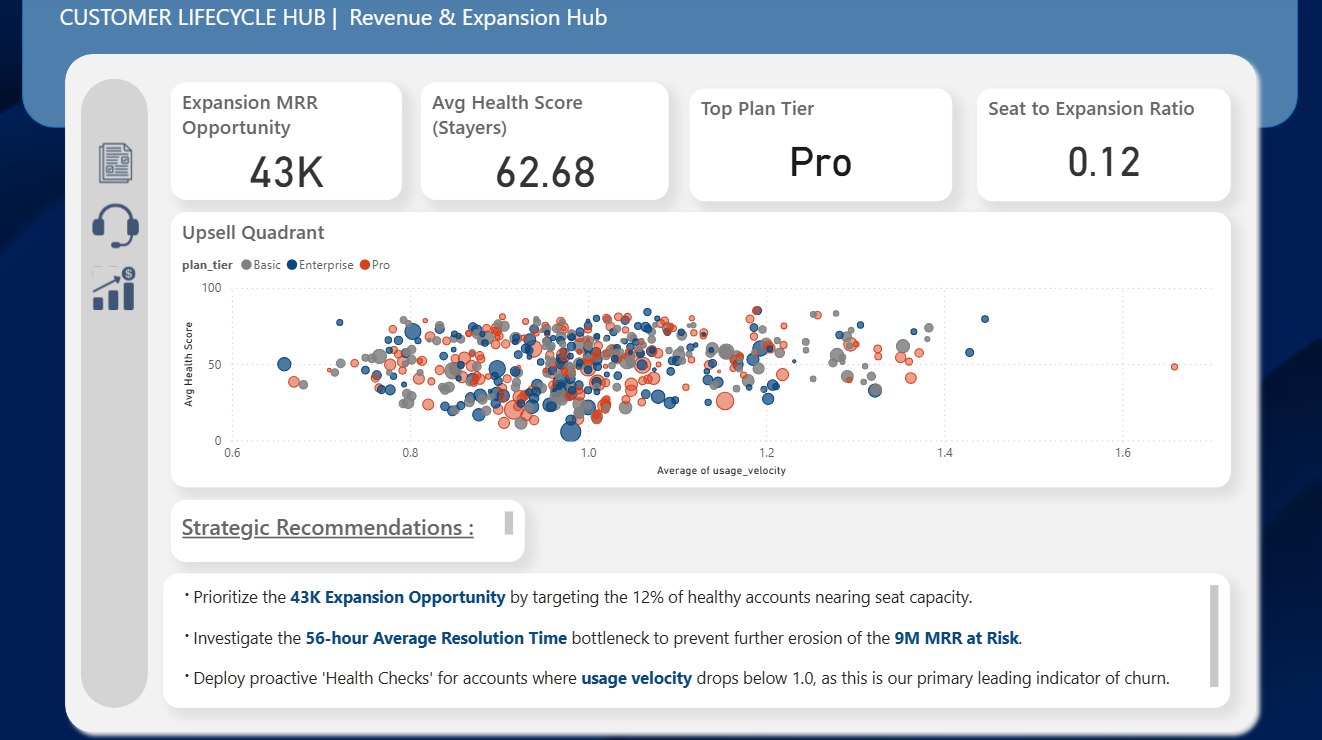

The dashboard page shown, as its layout file describes it:
{"tool":"powerbi","page":{"name":"Revenue & Expansion","canvas":[1280,720],"ordinal":2},"visuals":[{"type":"shape","box":[23.7,0,1231.6,127.3],"z":0},{"type":"shape","box":[56.2,47.4,1168,672.6],"z":1000},{"type":"actionButton","box":[81.1,79.9,64.9,607.7],"z":2000},{"type":"actionButton","box":[88.6,128.5,49.9,64.9],"z":3000},{"type":"actionButton","box":[88.6,193.4,51.2,57.4],"z":4000},{"type":"actionButton","box":[88.6,255.8,49.9,53.7],"z":5000},{"type":"textbox","box":[55,0,816.9,48.9],"z":6000},{"type":"card","title":"Expansion MRR Opportunity","fields":{"Values":["Measures_Table.Expansion_MRR_Opportunity"]},"box":[167.2,83.6,223.4,113.6],"z":7000},{"type":"card","title":"Avg Health Score (Stayers)","fields":{"Values":["Measures_Table.Avg_Health_Score_Stayers"]},"box":[409.3,83.6,239.6,113.6],"z":8000},{"type":"card","title":"Top Plan Tier","fields":{"Values":["Measures_Table.Top_Plan_Tier"]},"box":[668.8,88.8,253.3,108.6],"z":8001},{"type":"card","title":"Seat to Expansion Ratio","fields":{"Values":["Measures_Table.Seats_to_Expansion_Ratio"]},"box":[945.8,88.8,244.6,108.6],"z":8002},{"type":"scatterChart","title":"Upsell Quadrant","fields":{"X":["Avg(Fact_Churn_Prediction.usage_velocity)"],"Series":["Dim_Accounts.plan_tier"],"Category":["Dim_Accounts.account_name"],"Y":["Measures_Table.Avg Health Score"],"Size":["Sum(Fact_Churn_Prediction.total_mrr)"]},"box":[167.2,208.4,1023.2,265.8],"z":8003},{"type":"textbox","box":[167.2,486.6,341.9,59.9],"z":8004},{"type":"textbox","box":[161,557.8,1029.4,129.8],"z":8005}]}

Visuals, with their boxes in screenshot pixels (x1, y1, x2, y2), scaled from the page's 1280x720 canvas onto the 1322x740 screenshot:
shape: x1=24, y1=0, x2=1296, y2=131
shape: x1=58, y1=49, x2=1264, y2=739
actionButton: x1=84, y1=82, x2=151, y2=707
actionButton: x1=92, y1=132, x2=143, y2=199
actionButton: x1=92, y1=199, x2=144, y2=258
actionButton: x1=92, y1=263, x2=143, y2=318
textbox: x1=57, y1=0, x2=901, y2=50
"Expansion MRR Opportunity" card: x1=173, y1=86, x2=403, y2=203
"Avg Health Score (Stayers)" card: x1=423, y1=86, x2=670, y2=203
"Top Plan Tier" card: x1=691, y1=91, x2=952, y2=203
"Seat to Expansion Ratio" card: x1=977, y1=91, x2=1229, y2=203
"Upsell Quadrant" scatterChart: x1=173, y1=214, x2=1229, y2=487
textbox: x1=173, y1=500, x2=526, y2=562
textbox: x1=166, y1=573, x2=1229, y2=707
